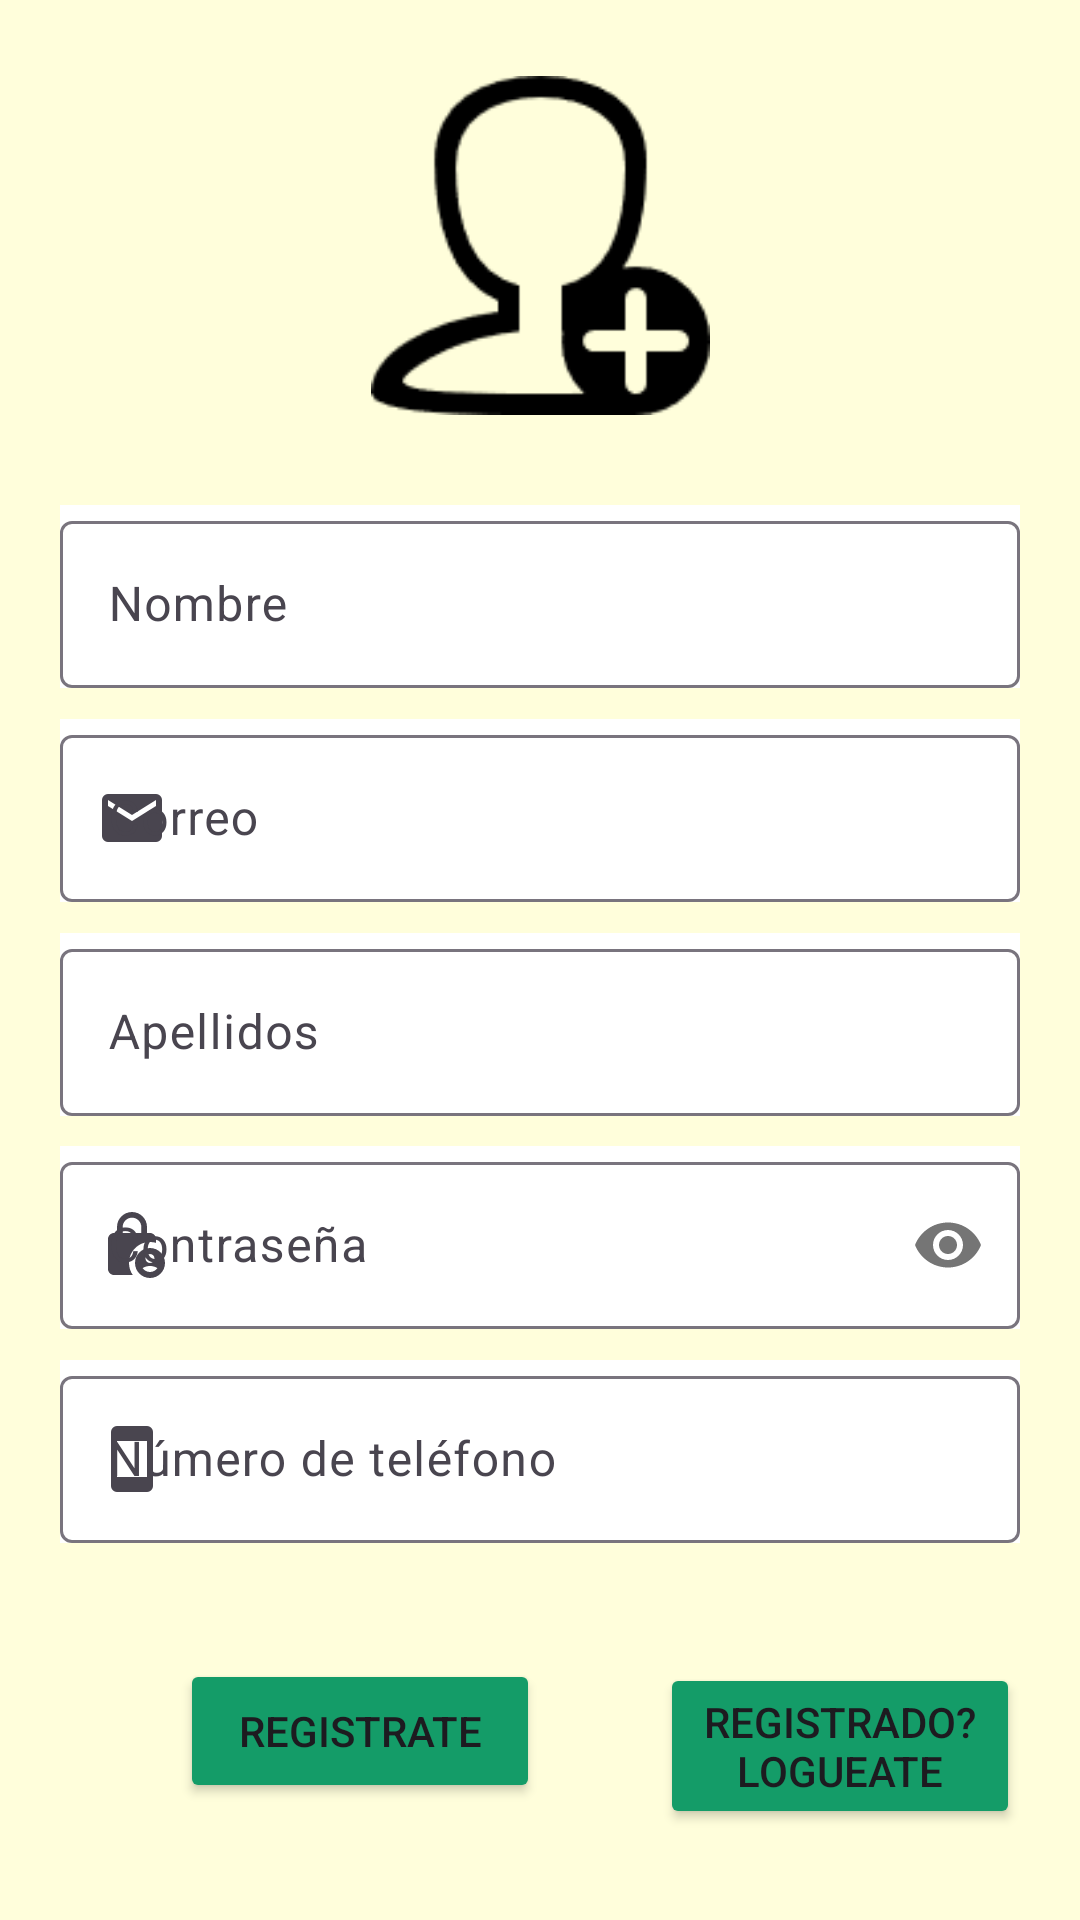

Point at icon controls on the screen. Image size 1080w x 1920h, points as (x=x, y=y).
register: (x=540, y=245)
